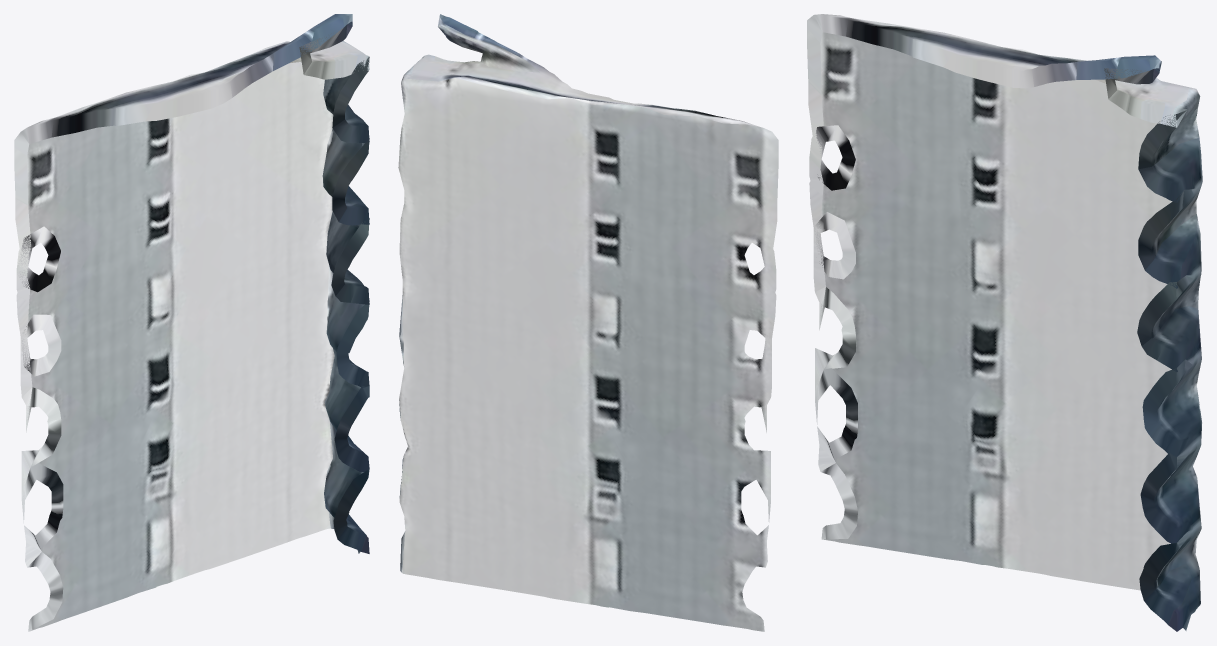
File: z20-167729-405196-h1-yup-uvflip-v3-world.glb
The picture shows the model from 3 angles, left to right: view 1: azimuth 30°, elevation 25°; view 2: azimuth 150°, elevation 25°; view 3: azimuth 330°, elevation 25°; orthographic projection. The views are drawn at different scales.
Bounding box in the file's own units: 13.36 × 19.8 × 2.04.
1 material, 1 textured.
